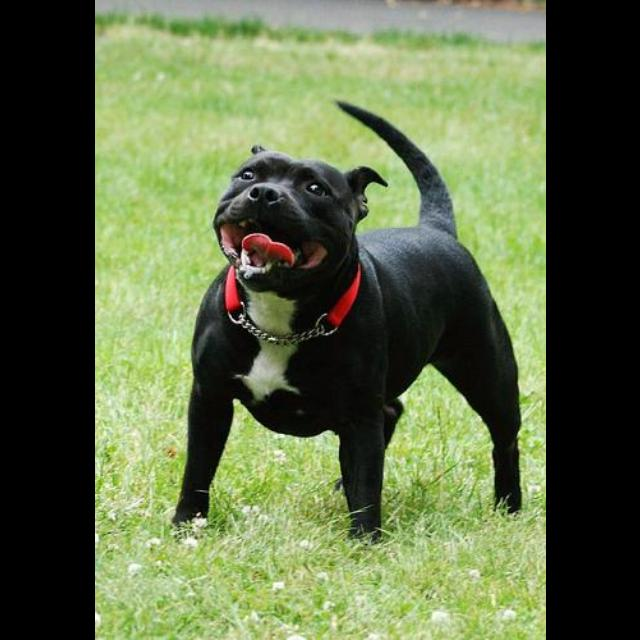staffford: (171, 99, 524, 548)
